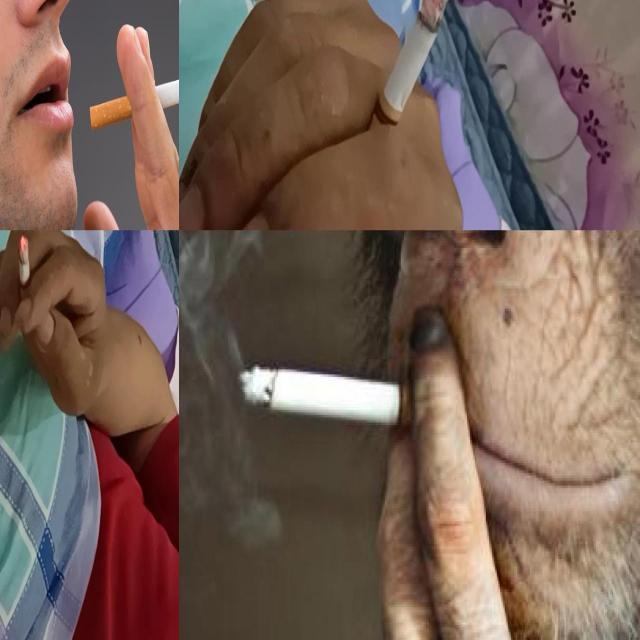smoking: (361, 0, 466, 179), (238, 365, 458, 433), (89, 64, 179, 132), (18, 235, 32, 319)
